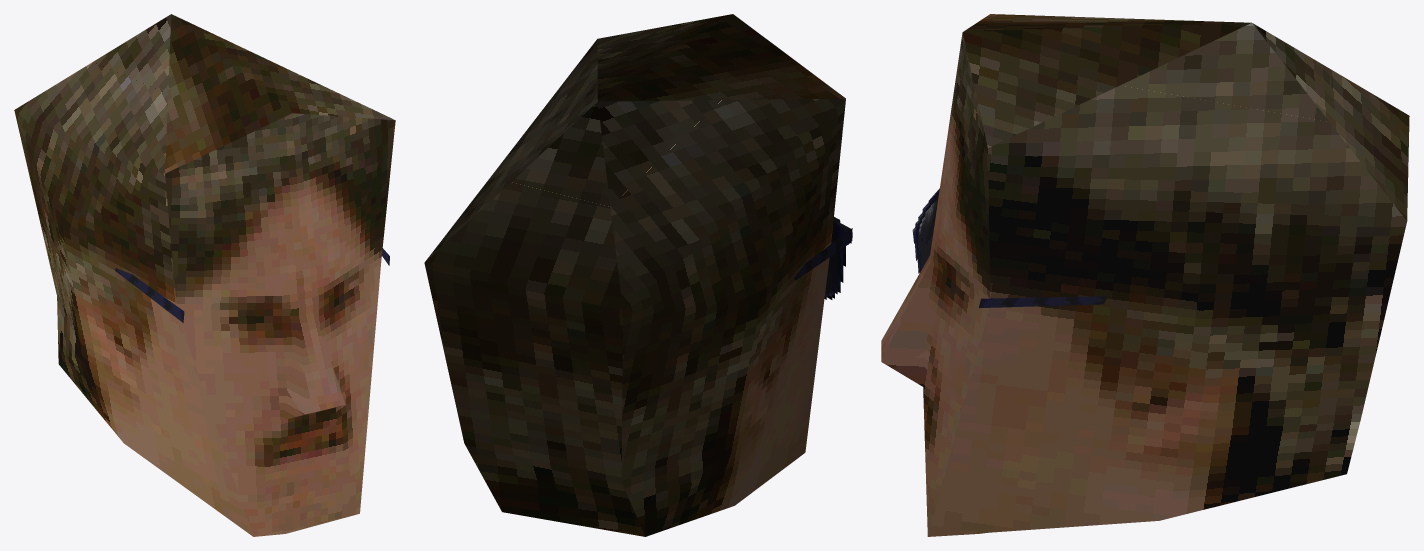
File: CheadkenZ.obj
3 renders of one model, left to right at view 1: azimuth 30°, elevation 25°; view 2: azimuth 150°, elevation 25°; view 3: azimuth 270°, elevation 25°, orthographic. The views are drawn at different scales.
Size of the model in its own units: 150 by 244 by 228.
Materials: 7 (7 with a texture image).
